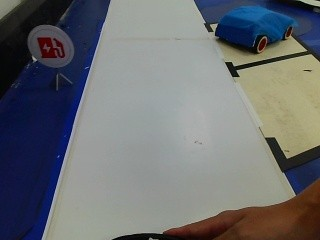battery: (27, 24, 70, 69)
car: (218, 6, 295, 58)
